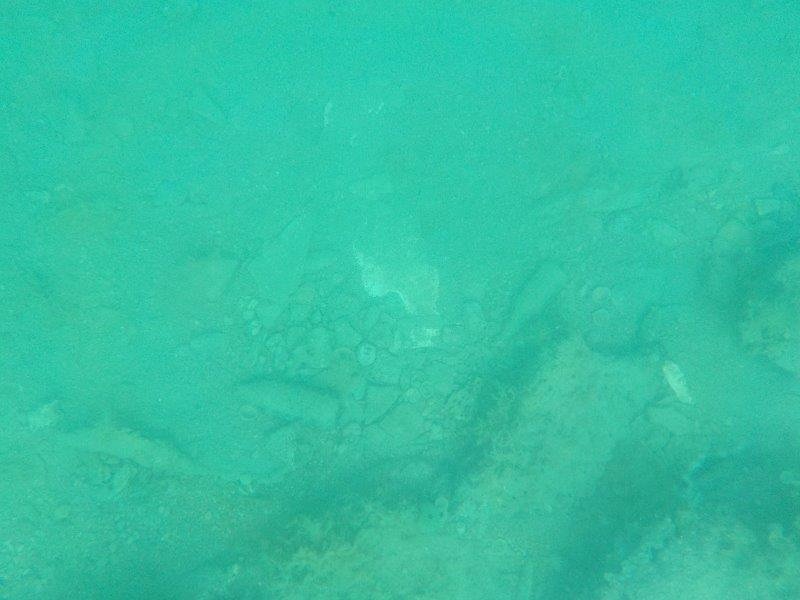bottle: (486, 252, 568, 359), (228, 370, 346, 432)
